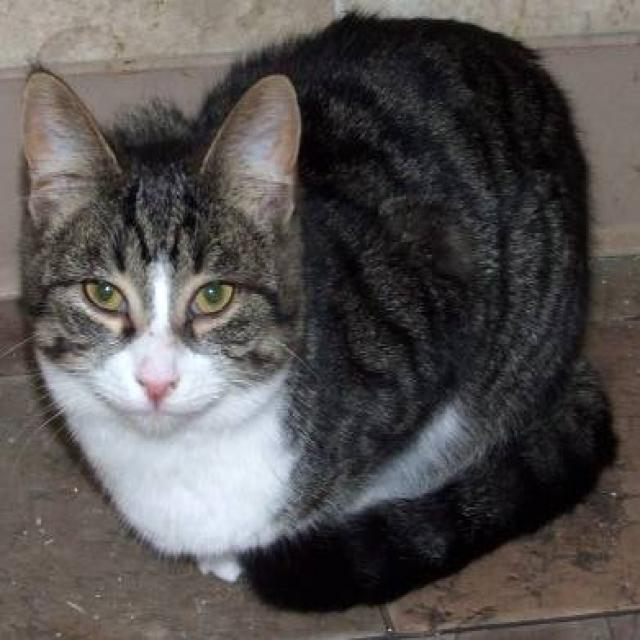Cats: (10, 5, 619, 613)
